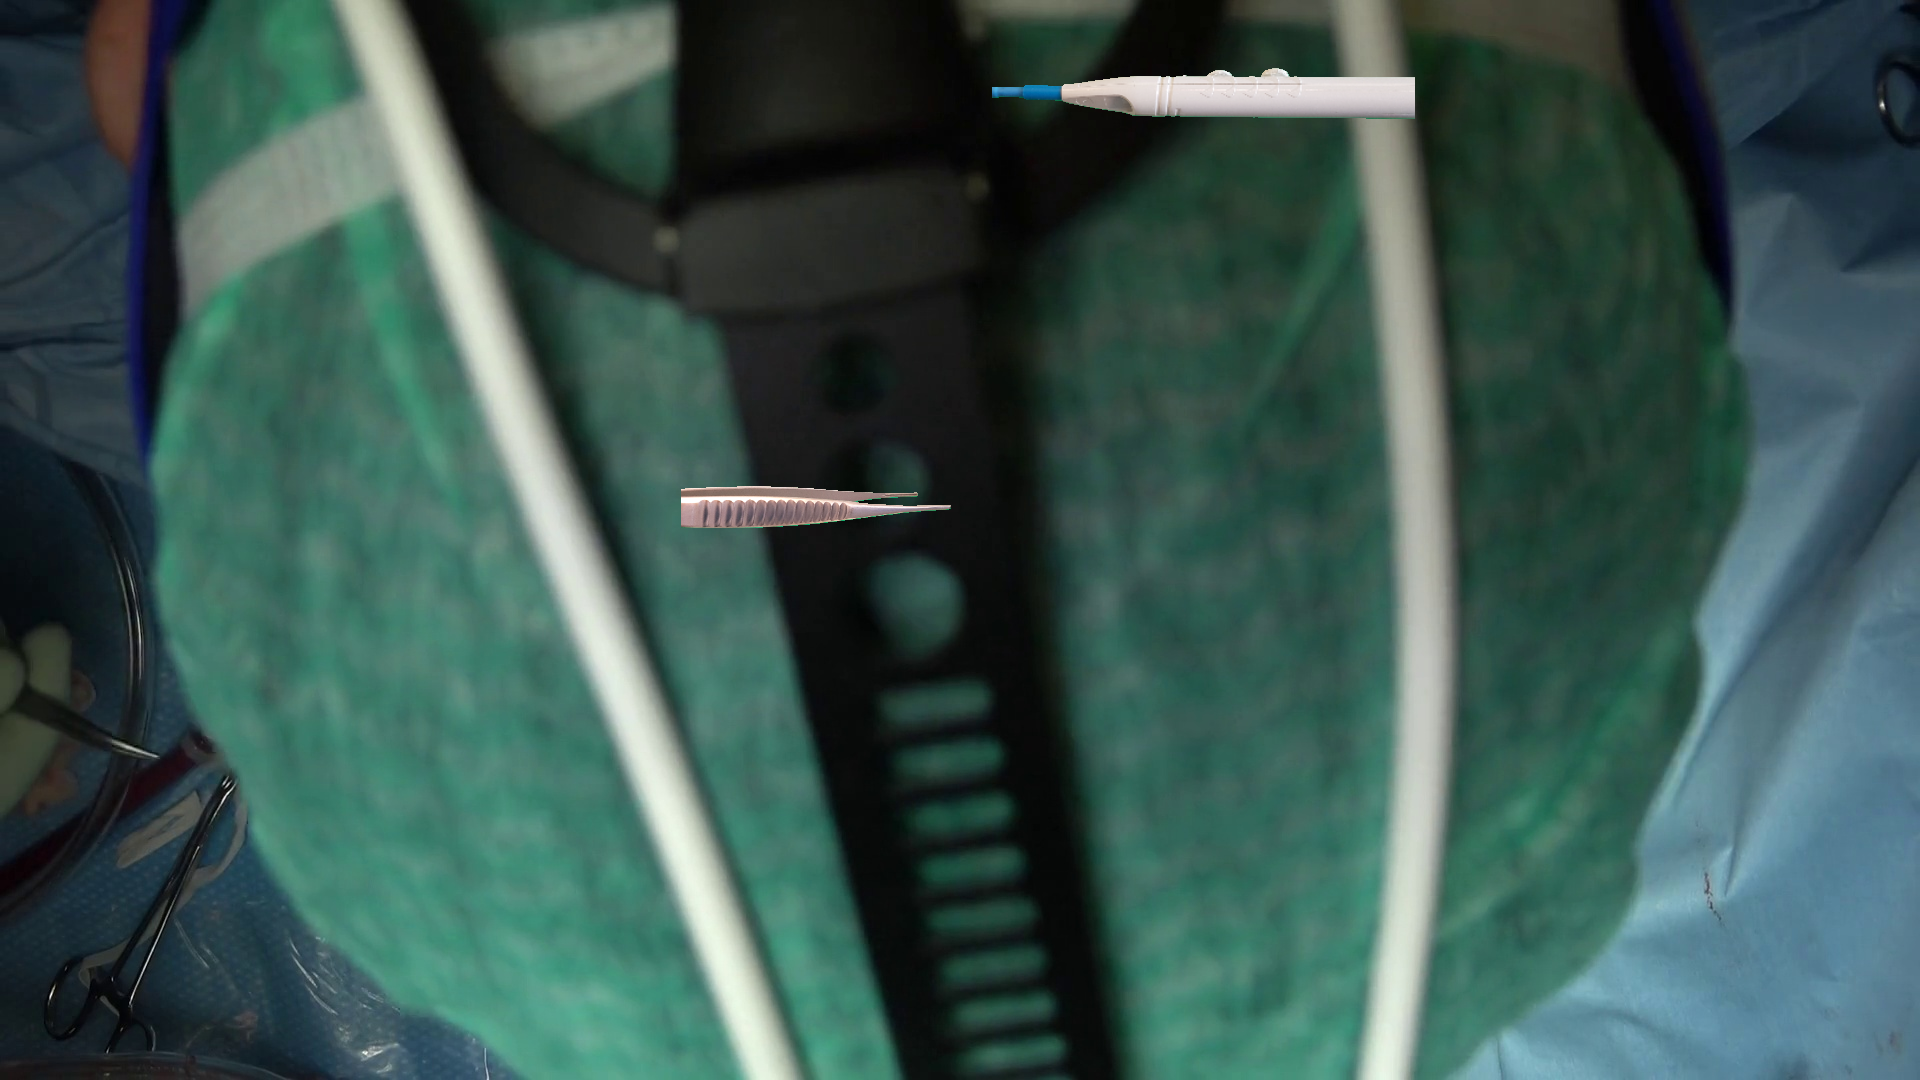diathermy: (992, 69, 1414, 117)
forceps: (680, 487, 949, 527)
